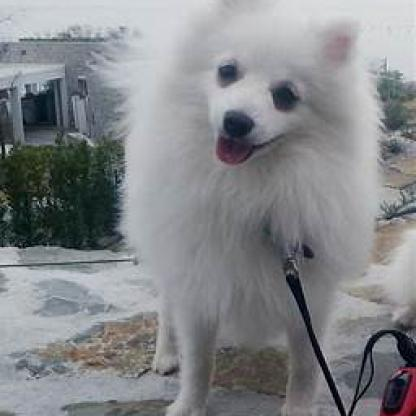dog: (115, 0, 384, 415)
